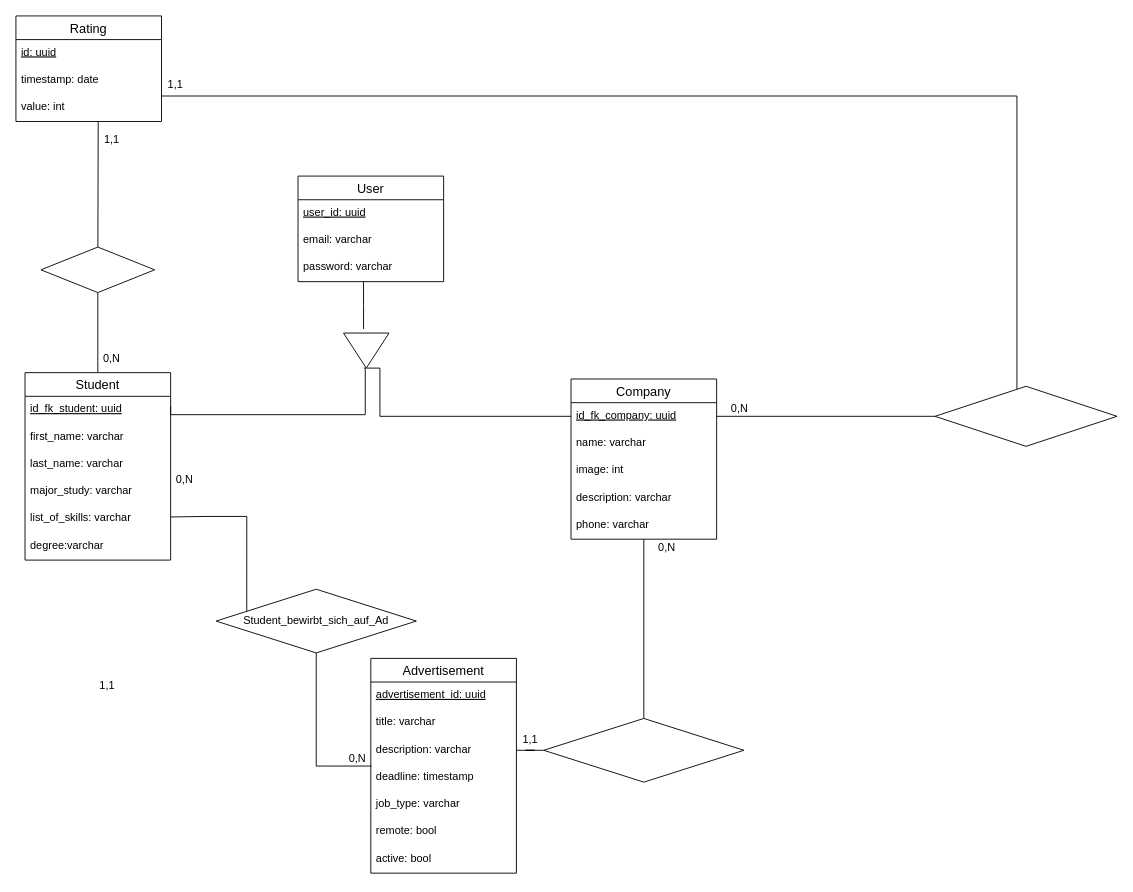
This 1133x892 diagram has some shape labels left out. The centre of each missing label's shape, as x and y in pixels:
"c_verfasst_R" belongs at [1025,415].
"Company_erstellt_Ad" belongs at [643,750].
"S_macht_R" belongs at [97,269].
